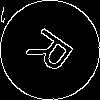R: (25, 25, 83, 81)
